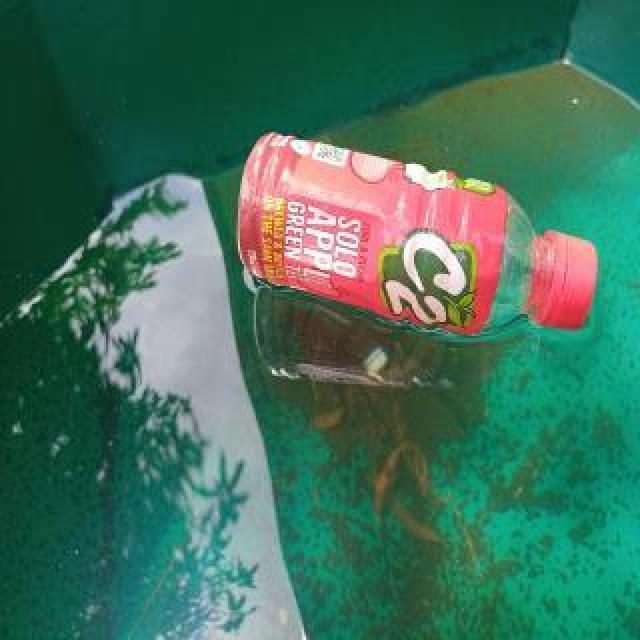Bottle: (237, 131, 599, 341)
